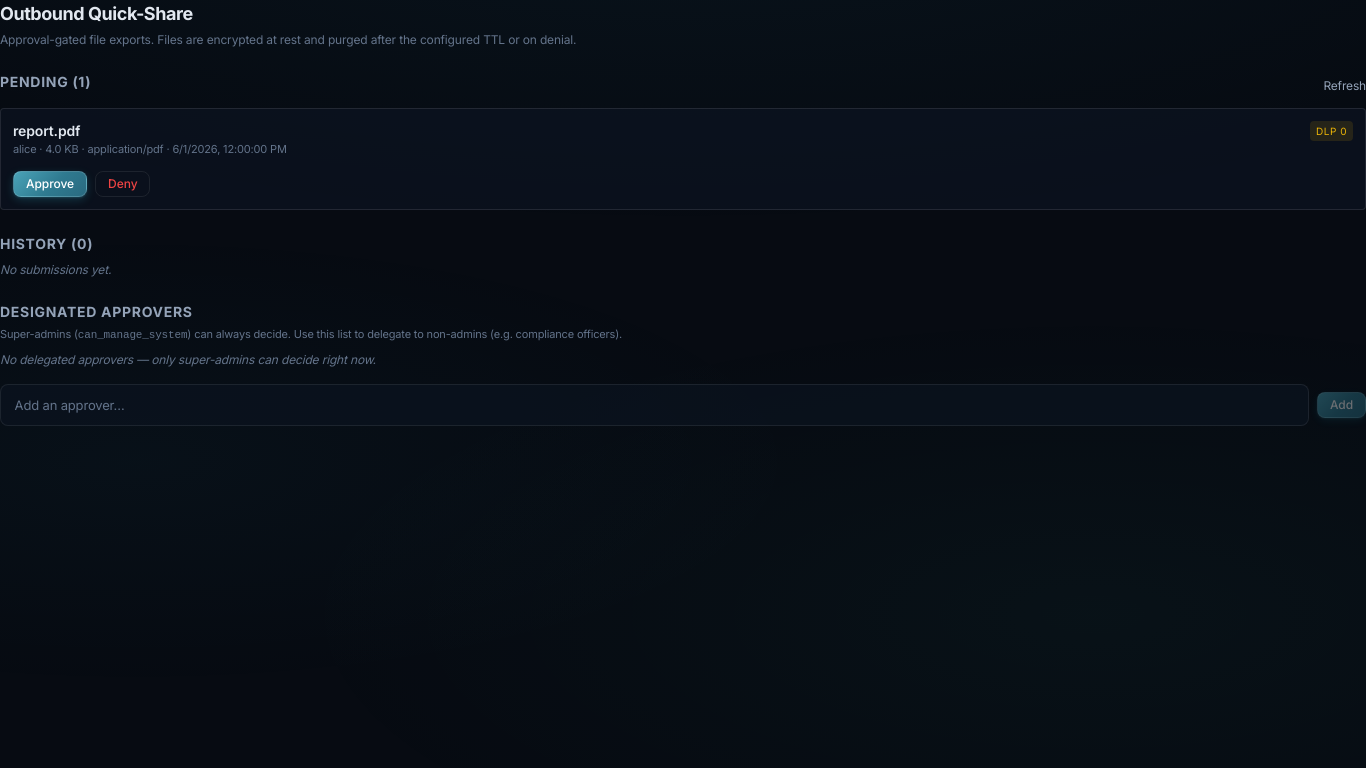
Test case: OutboundSharesTab › closes the deny modal when Cancel is clicked
The width and height of the screenshot is (1366, 768).
Expected: the text "report.pdf" is shown, [13,122,80,139]
Click the button "Deny": (123, 184) [95,171,150,197]
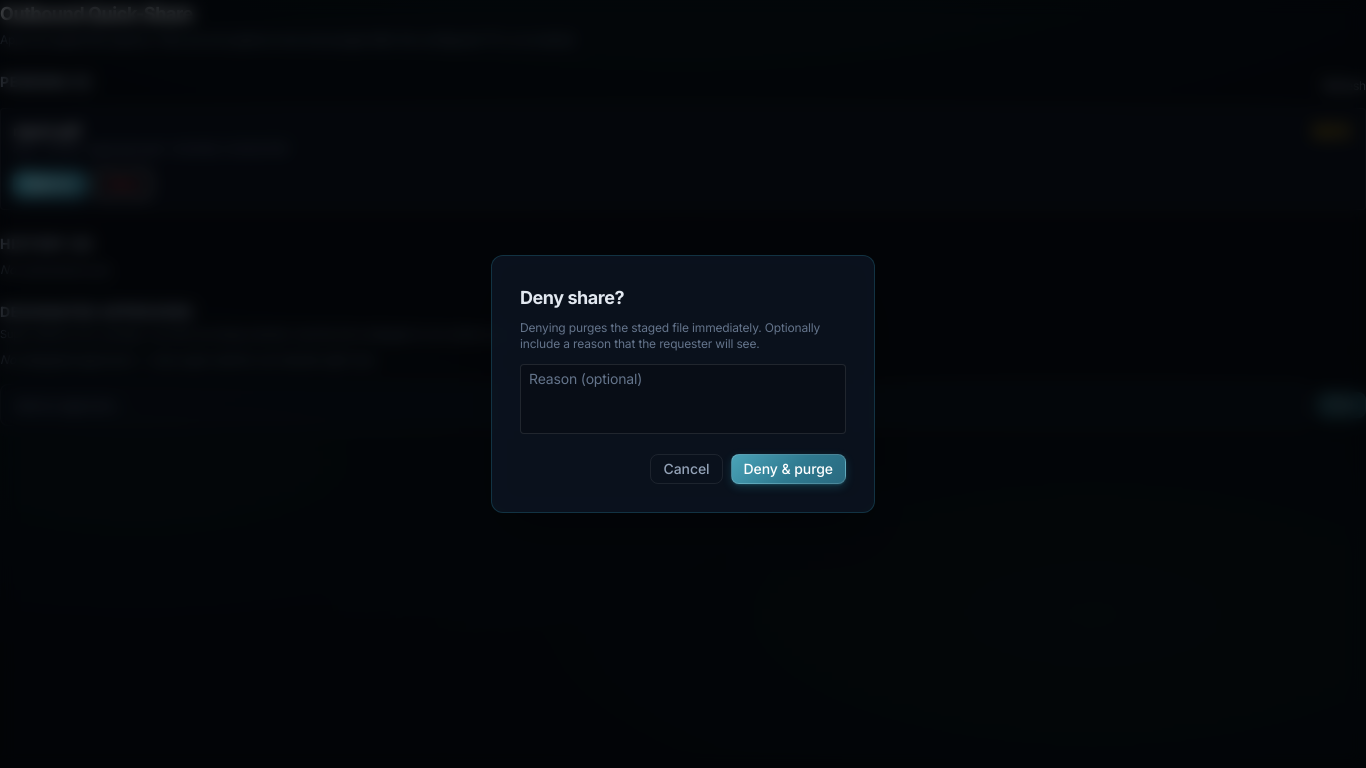
Expected: the button "Cancel" is shown
Click the button "Cancel": (687, 469) [650,454,723,484]
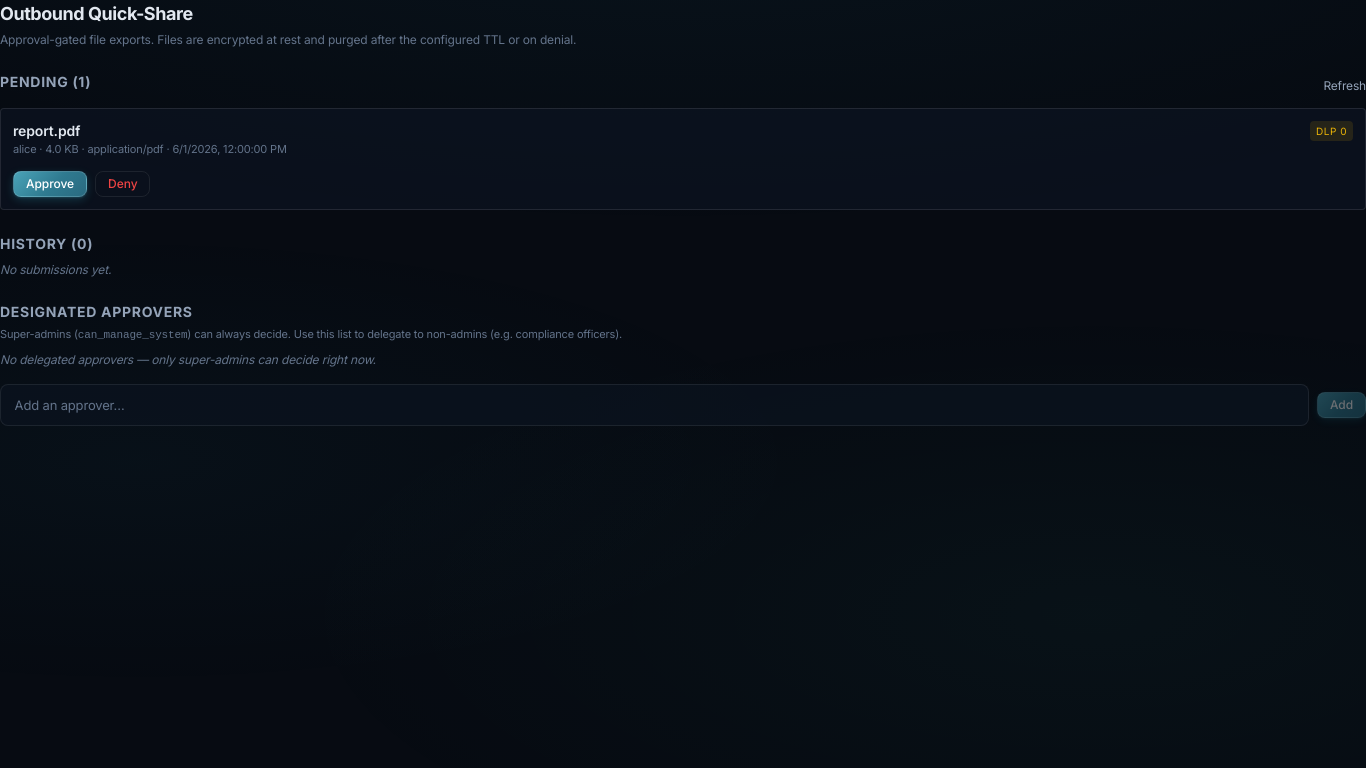
Expected: the button "Cancel" is gone
